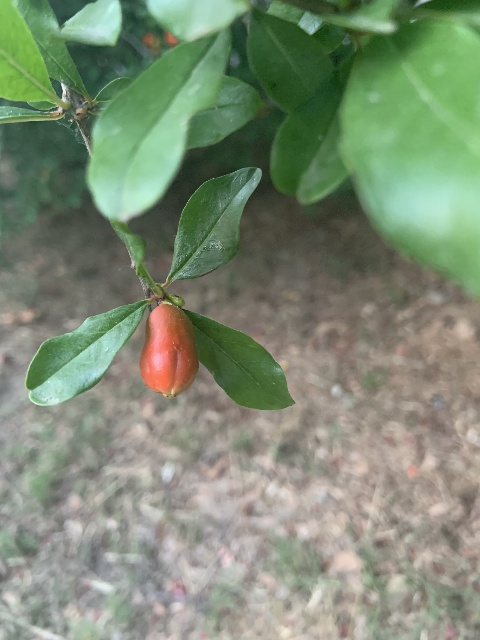bud: (140, 303, 198, 397)
